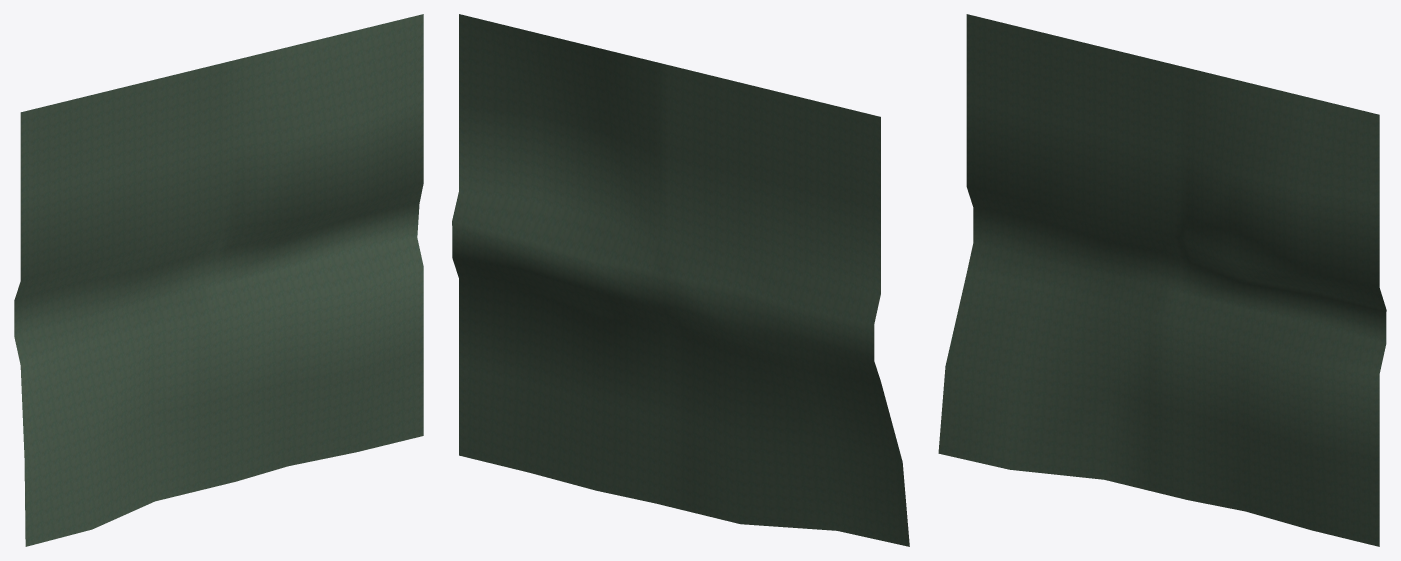
File: terrain.glb
The picture shows the model from 3 angles, left to right: view 1: azimuth 30°, elevation 25°; view 2: azimuth 150°, elevation 25°; view 3: azimuth 330°, elevation 25°; orthographic projection. The views are drawn at different scales.
Visible parts, largest first — view 1: terrain; view 2: terrain; view 3: terrain.
Part boxes in pixels (x1,y1,x2,y2): terrain: [14, 14, 423, 546]; terrain: [452, 14, 909, 546]; terrain: [938, 14, 1386, 546].
Bounding box in the file's own units: 176 × 171 × 18.3.
Materials: 1 (1 with a texture image).
